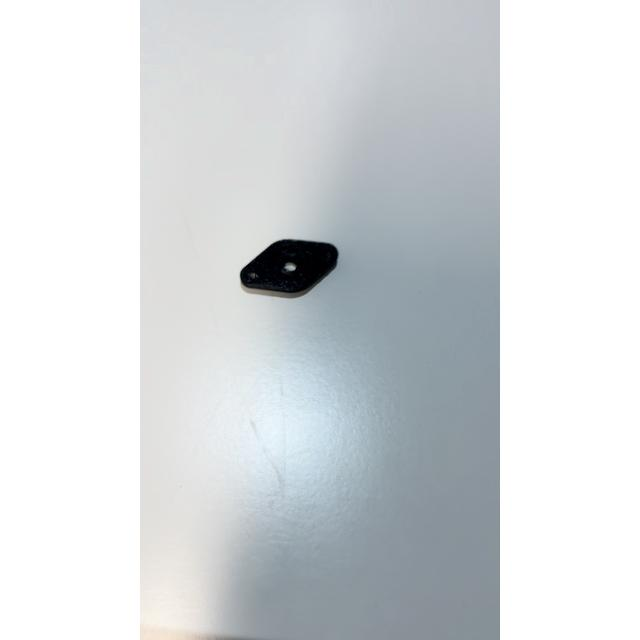Pieza_2: (228, 227, 358, 306)
